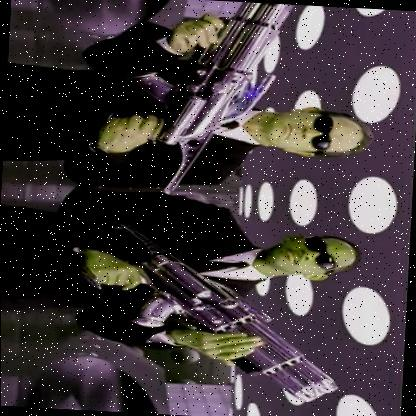rifle: (81, 216, 354, 402), (95, 0, 307, 186)
